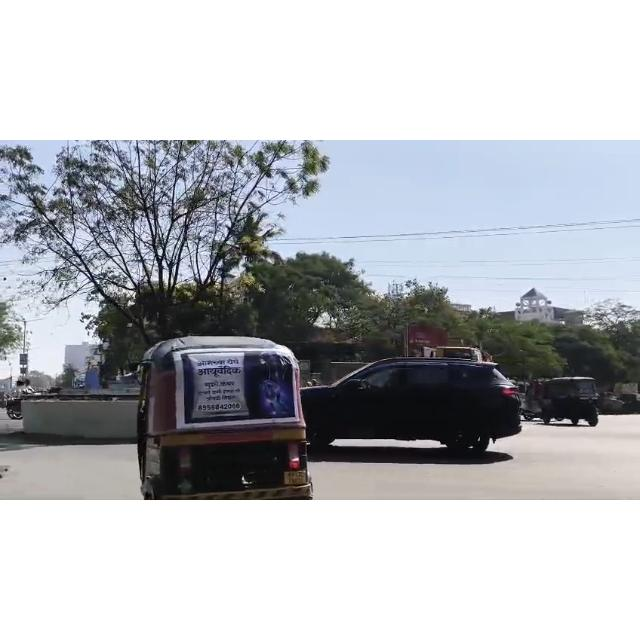auto: (134, 336, 328, 500), (539, 361, 609, 442)
car: (298, 345, 537, 458)
